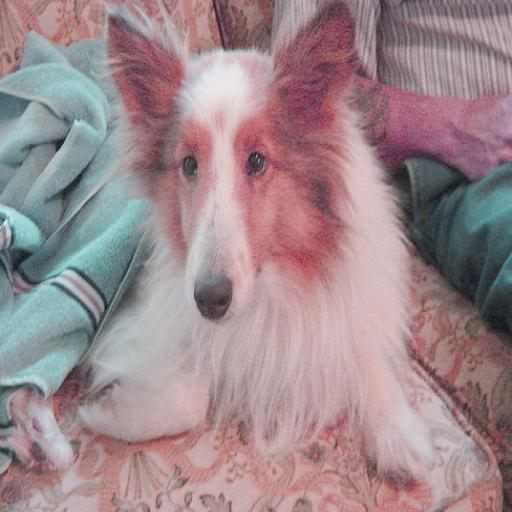dog_face: (106, 6, 360, 331)
